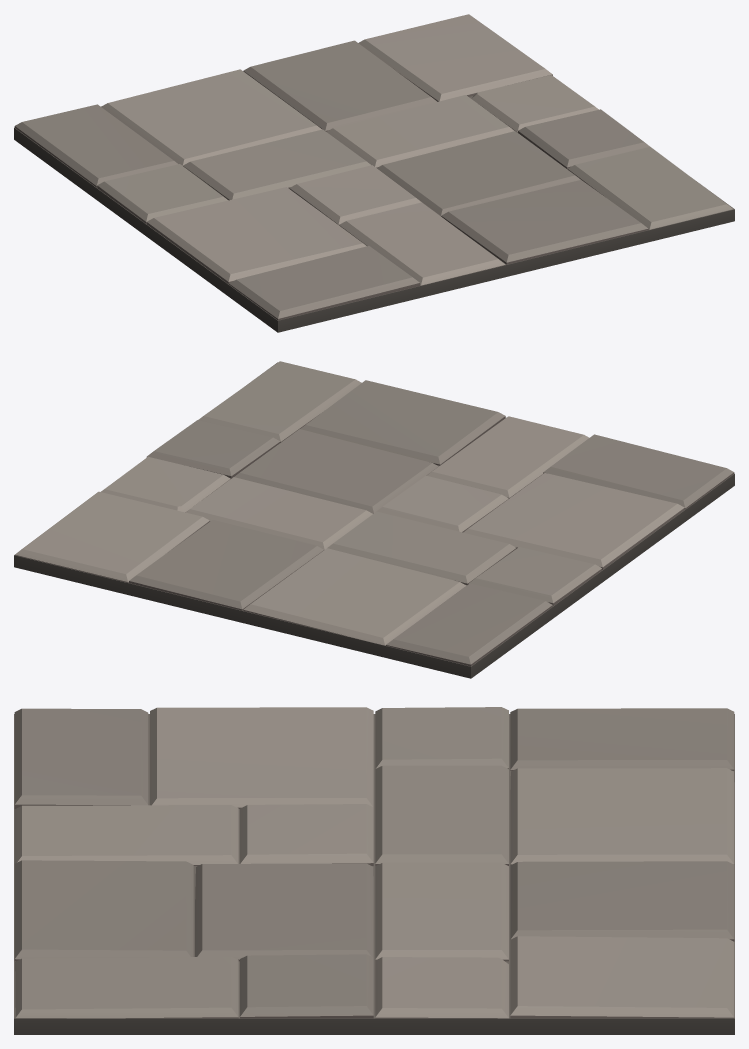
Rendered from floor_flagstones_large_C.glb.
3 renders of one model, top to bottom at view 1: azimuth 30°, elevation 25°; view 2: azimuth 150°, elevation 25°; view 3: azimuth 270°, elevation 25°, orthographic. The views are drawn at different scales.
Parts seen in each view (by area): view 1: Item; view 2: Item; view 3: Item.
Boxes of the visible parts, x1=… form: Item: x1=14, y1=14, x2=734, y2=332; Item: x1=14, y1=361, x2=734, y2=678; Item: x1=14, y1=707, x2=734, y2=1034.
Bounding box in the file's own units: 4 × 0.1651 × 4.
Materials: 1 (1 with a texture image).
